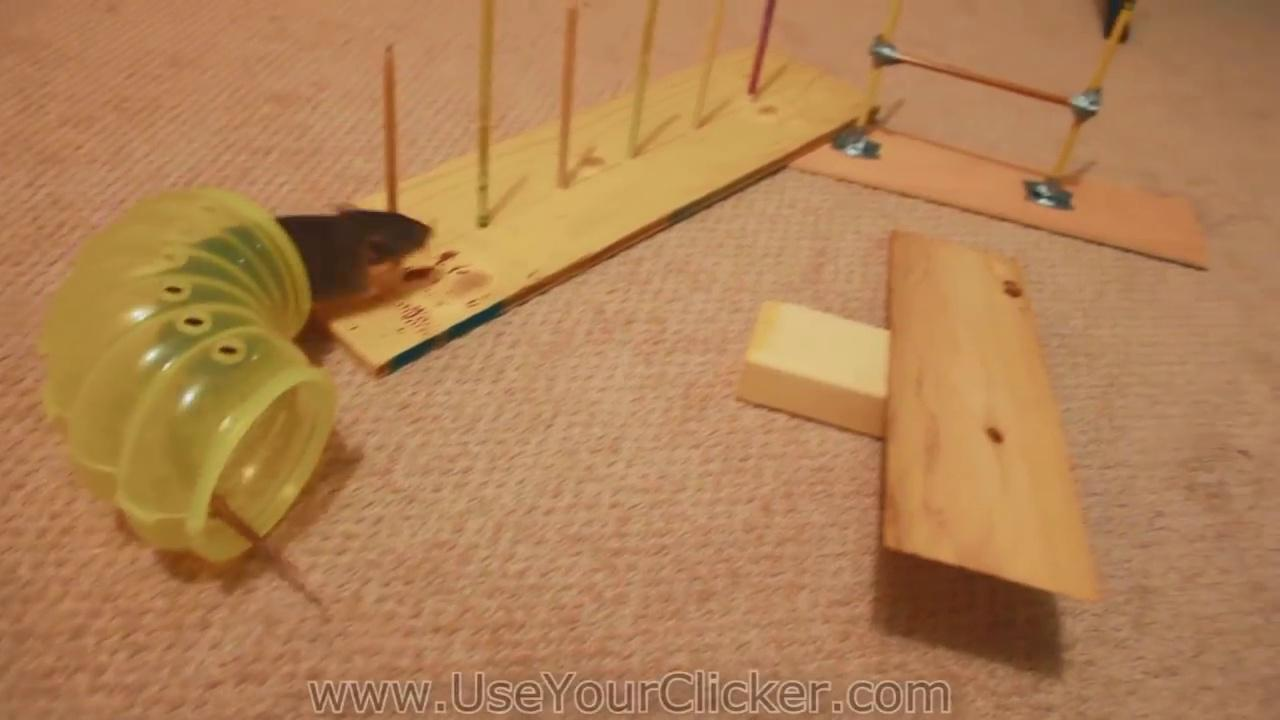rat: (150, 200, 436, 377)
